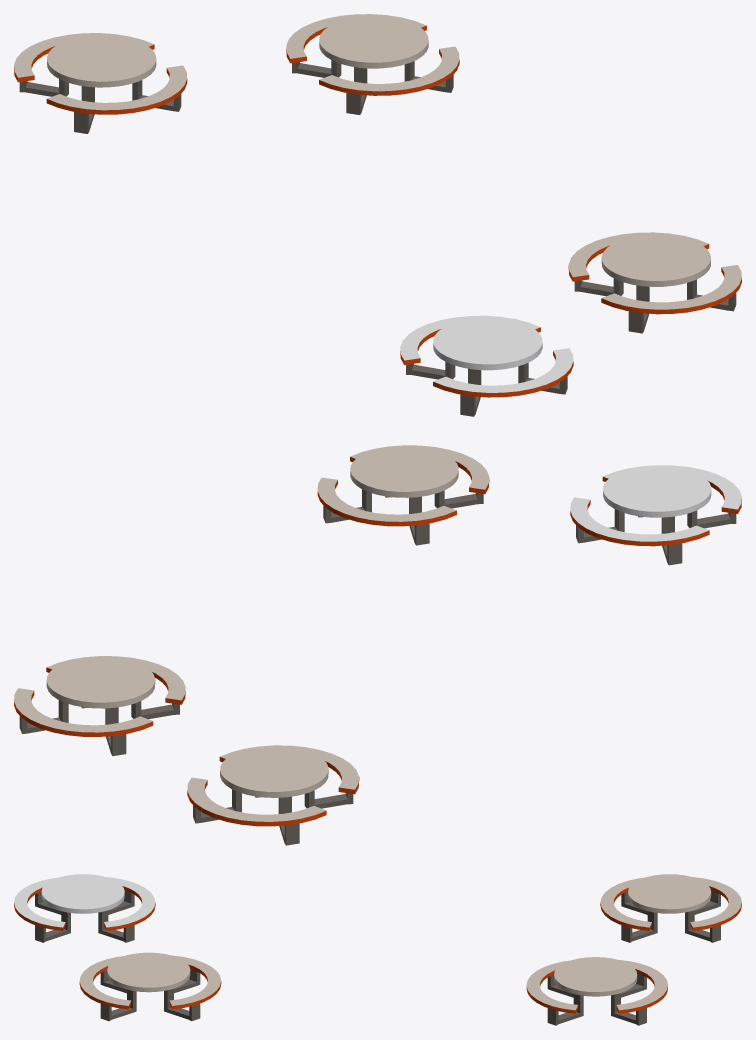
File: table.fbx
The picture shows the model from 3 angles, top to bottom: view 1: azimuth 30°, elevation 25°; view 2: azimuth 150°, elevation 25°; view 3: azimuth 270°, elevation 25°; orthographic projection. The views are drawn at different scales.
Visible parts, largest first — view 1: Cylinder.076, Cylinder.083, Cylinder.067, Cylinder.071, Cylinder.082, Cylinder.069, Cylinder.075, Cylinder.072, Cylinder.073, Cylinder.081, Cylinder.070, Cylinder.074; view 2: Cylinder.071, Cylinder.076, Cylinder.067, Cylinder.083, Cylinder.074, Cylinder.081, Cylinder.070, Cylinder.073, Cylinder.069, Cylinder.072, Cylinder.082, Cylinder.075; view 3: Cylinder.067, Cylinder.083, Cylinder.076, Cylinder.071, Cylinder.081, Cylinder.073, Cylinder.070, Cylinder.074, Cylinder.075, Cylinder.072, Cylinder.069, Cylinder.082.
Part boxes in pixels (x1,y1,x2,y2): Cylinder.076: (319, 16, 428, 68); Cylinder.083: (433, 318, 542, 370); Cylinder.067: (47, 35, 156, 87); Cylinder.071: (601, 235, 710, 286); Cylinder.082: (433, 348, 573, 416); Cylinder.069: (46, 65, 187, 133); Cylinder.075: (319, 46, 459, 114); Cylinder.072: (601, 265, 741, 333); Cylinder.073: (568, 232, 709, 296); Cylinder.081: (400, 315, 540, 379); Cylinder.070: (14, 33, 154, 96); Cylinder.074: (286, 14, 426, 77); Cylinder.071: (350, 446, 458, 497); Cylinder.076: (46, 657, 155, 708); Cylinder.067: (220, 746, 328, 797); Cylinder.083: (603, 466, 711, 517); Cylinder.074: (14, 688, 153, 755); Cylinder.081: (570, 497, 709, 565); Cylinder.070: (187, 777, 326, 845); Cylinder.073: (317, 477, 456, 545); Cylinder.069: (219, 745, 359, 808); Cylinder.072: (350, 445, 489, 508); Cylinder.082: (602, 465, 741, 528); Cylinder.075: (46, 656, 185, 719); Cylinder.067: (628, 874, 711, 913); Cylinder.083: (41, 874, 124, 913); Cylinder.076: (554, 957, 637, 996); Cylinder.071: (107, 952, 190, 992); Cylinder.081: (98, 877, 155, 942); Cylinder.073: (164, 955, 221, 1021); Cylinder.070: (685, 877, 741, 942); Cylinder.074: (611, 960, 667, 1025); Cylinder.075: (526, 960, 583, 1025); Cylinder.072: (79, 956, 136, 1021); Cylinder.069: (600, 877, 657, 942); Cylinder.082: (14, 877, 70, 942).
Size of the model in its own units: 1518 by 166 by 3499.
